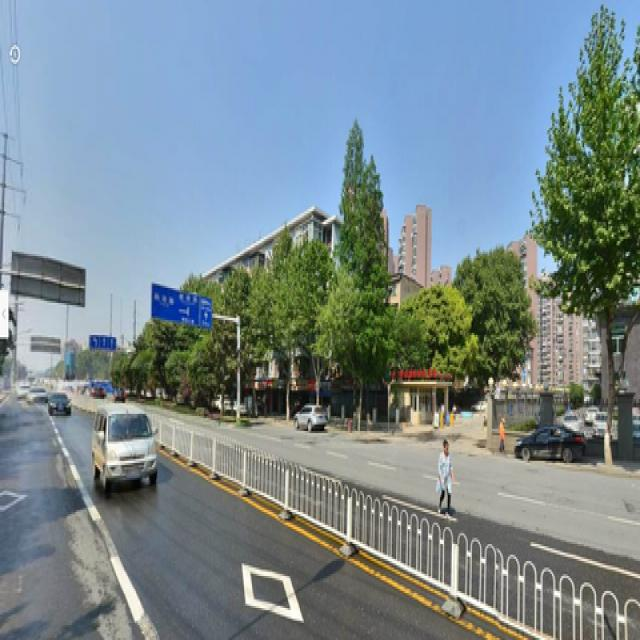meta: (545, 15, 639, 488)
